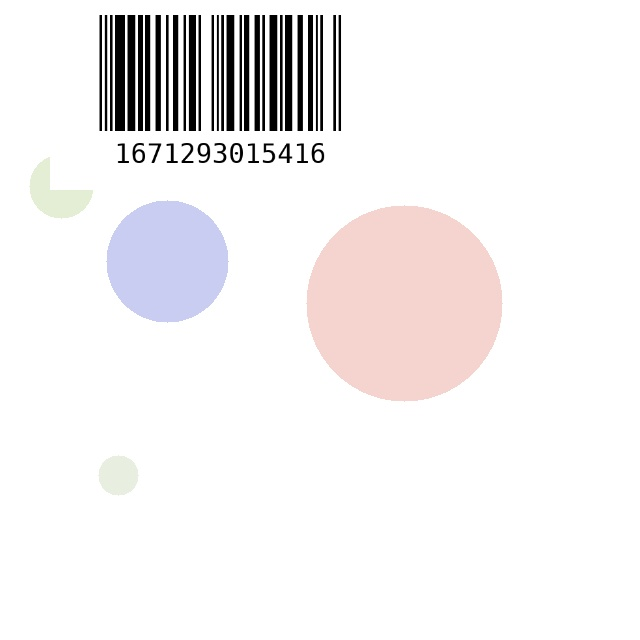barcode: (50, 8, 391, 190)
